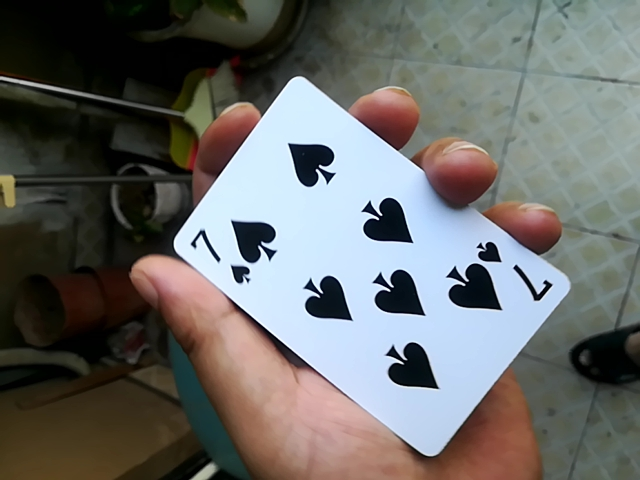ht 7: (169, 69, 555, 462)
